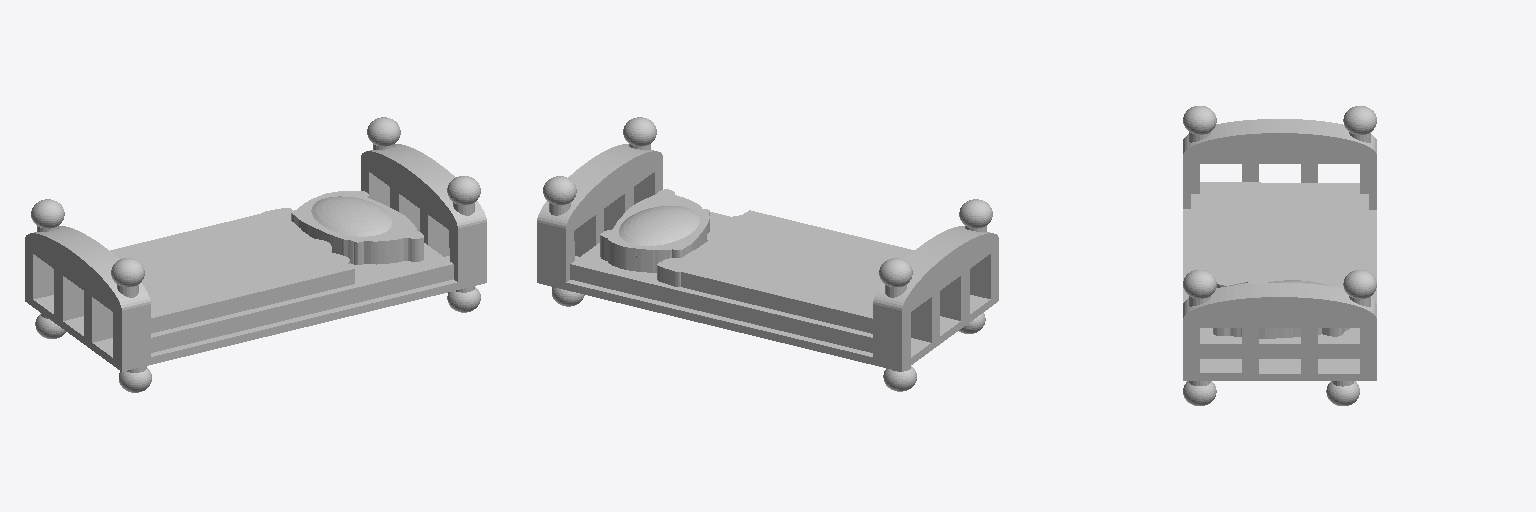
Rendered from bed.obj.
3 renders of one model, left to right at view 1: azimuth 30°, elevation 25°; view 2: azimuth 150°, elevation 25°; view 3: azimuth 270°, elevation 25°, orthographic.
Parts seen in each view (by area): view 1: obj_0.003; view 2: obj_0.003; view 3: obj_0.003.
Part boxes in pixels (x1,y1,x2,y2): obj_0.003: (25, 117, 486, 392); obj_0.003: (537, 117, 998, 391); obj_0.003: (1183, 106, 1376, 405).
Size of the model in its own units: 50 by 17.45 by 23.02.